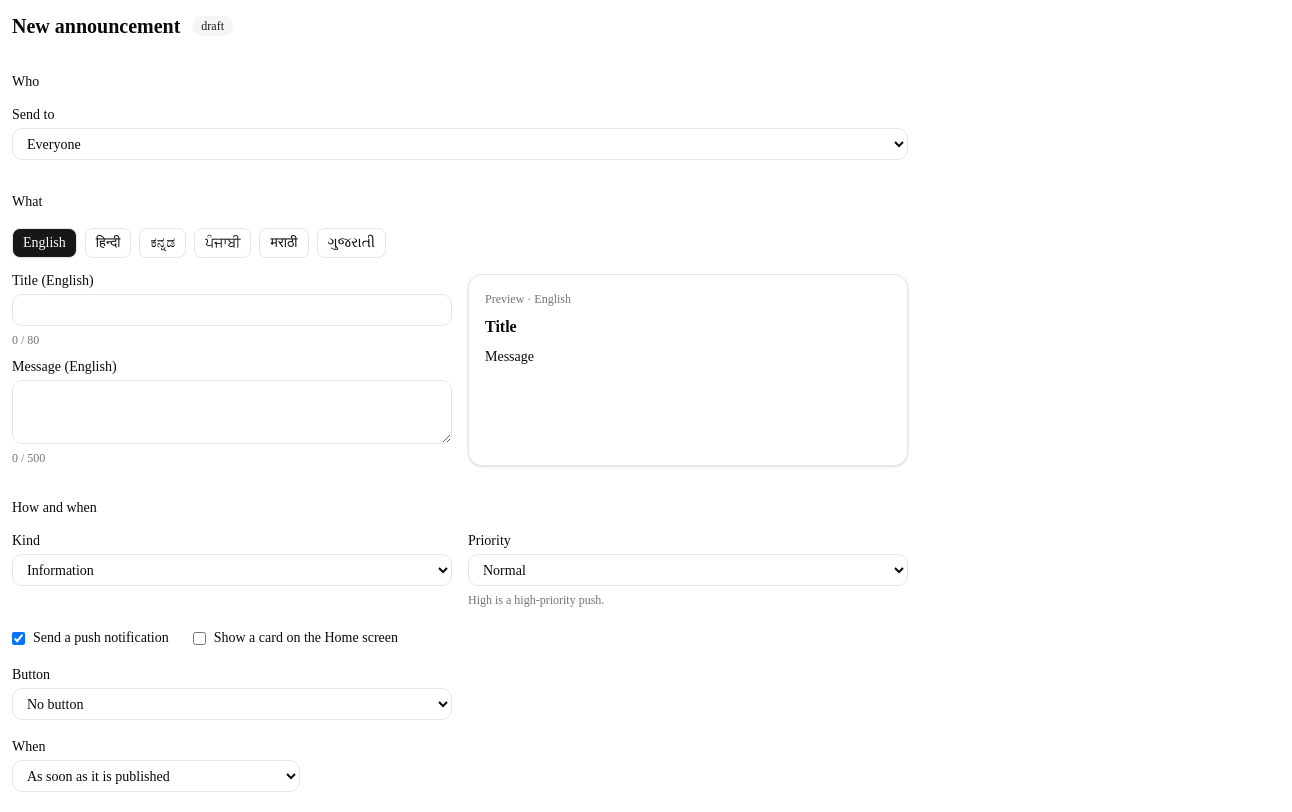
a new announcement › shows a preview of the card in the language being edited
The image size is (1292, 812).
In the field labelled "Title (English)": (232, 310) x1=12 y1=294 x2=452 y2=326, type "Big news"
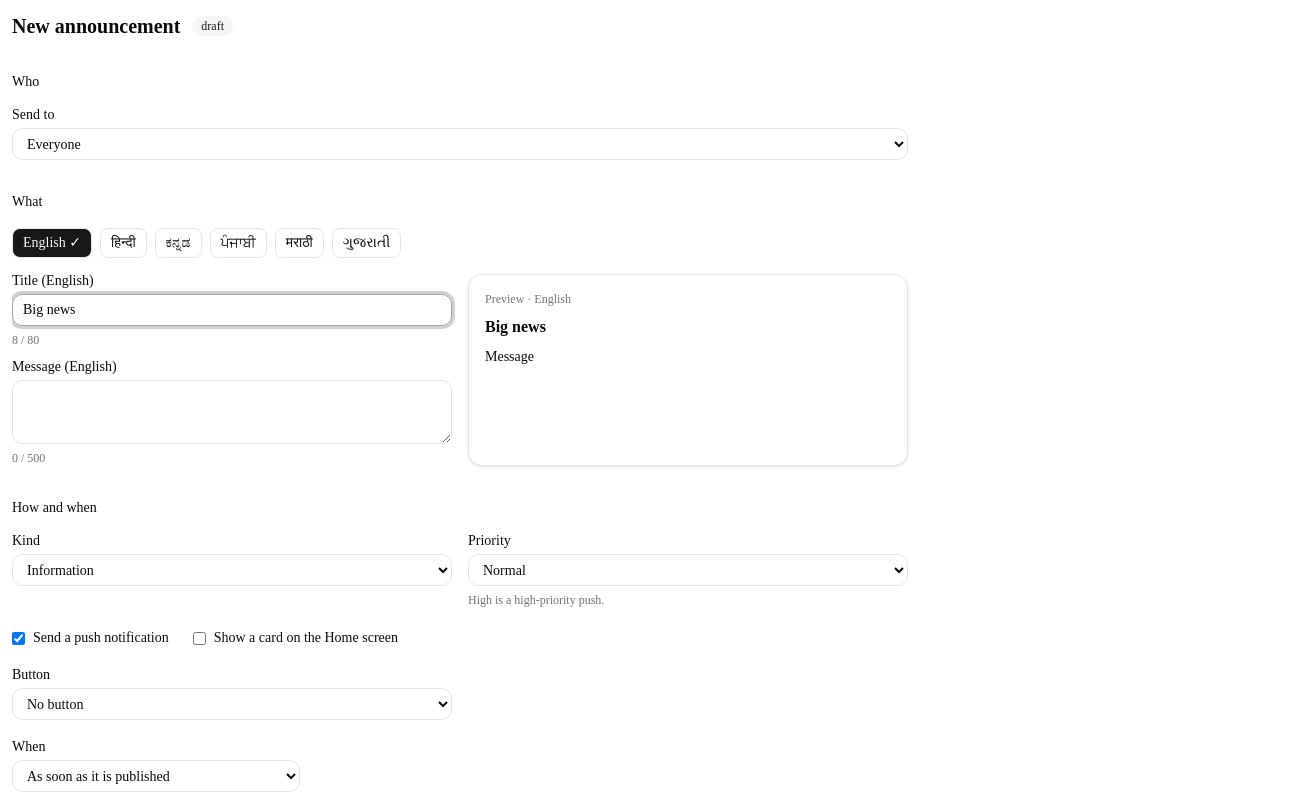
In the text box labelled "Message (English)": (232, 412) x1=12 y1=380 x2=452 y2=444, type "Read this"
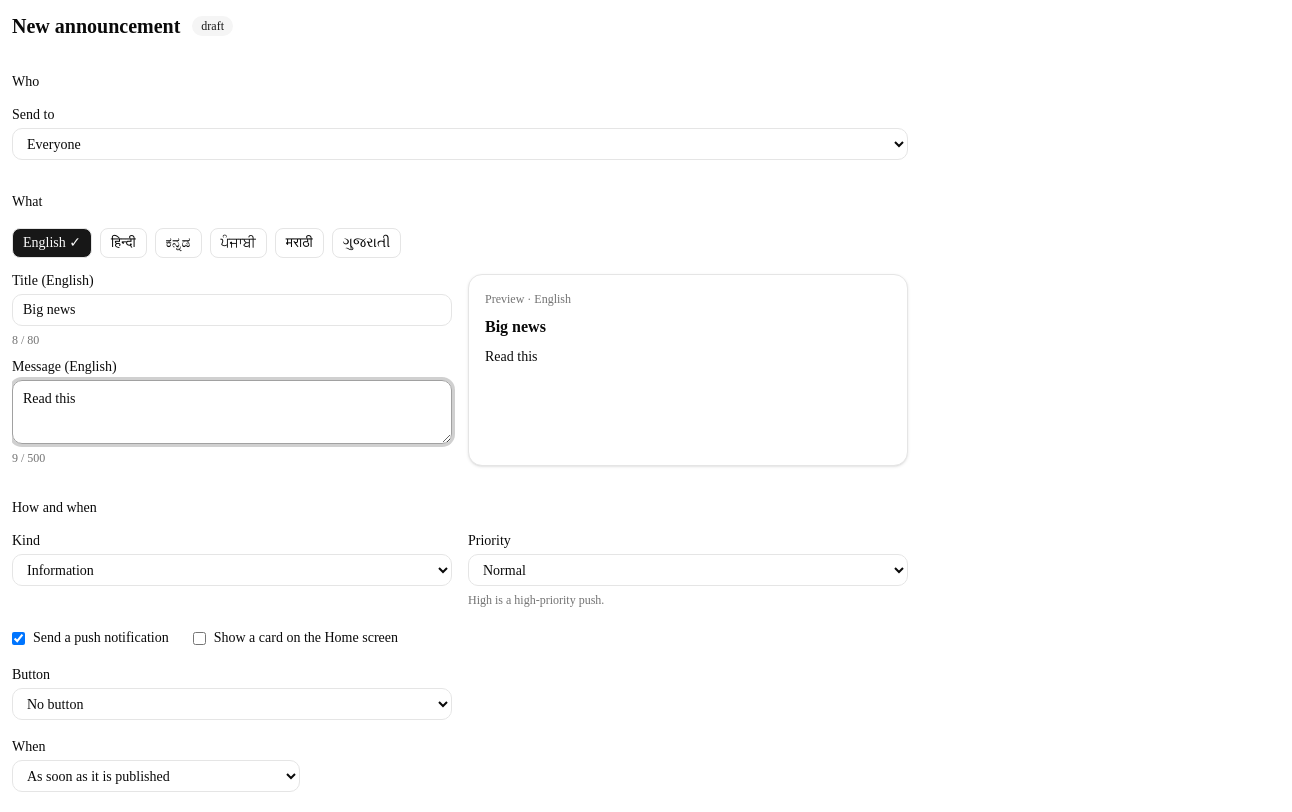
Expected: the text "Big news" is shown, x1=485 y1=318 x2=546 y2=335
Expected: the text "Read this" is shown, x1=485 y1=349 x2=538 y2=364
